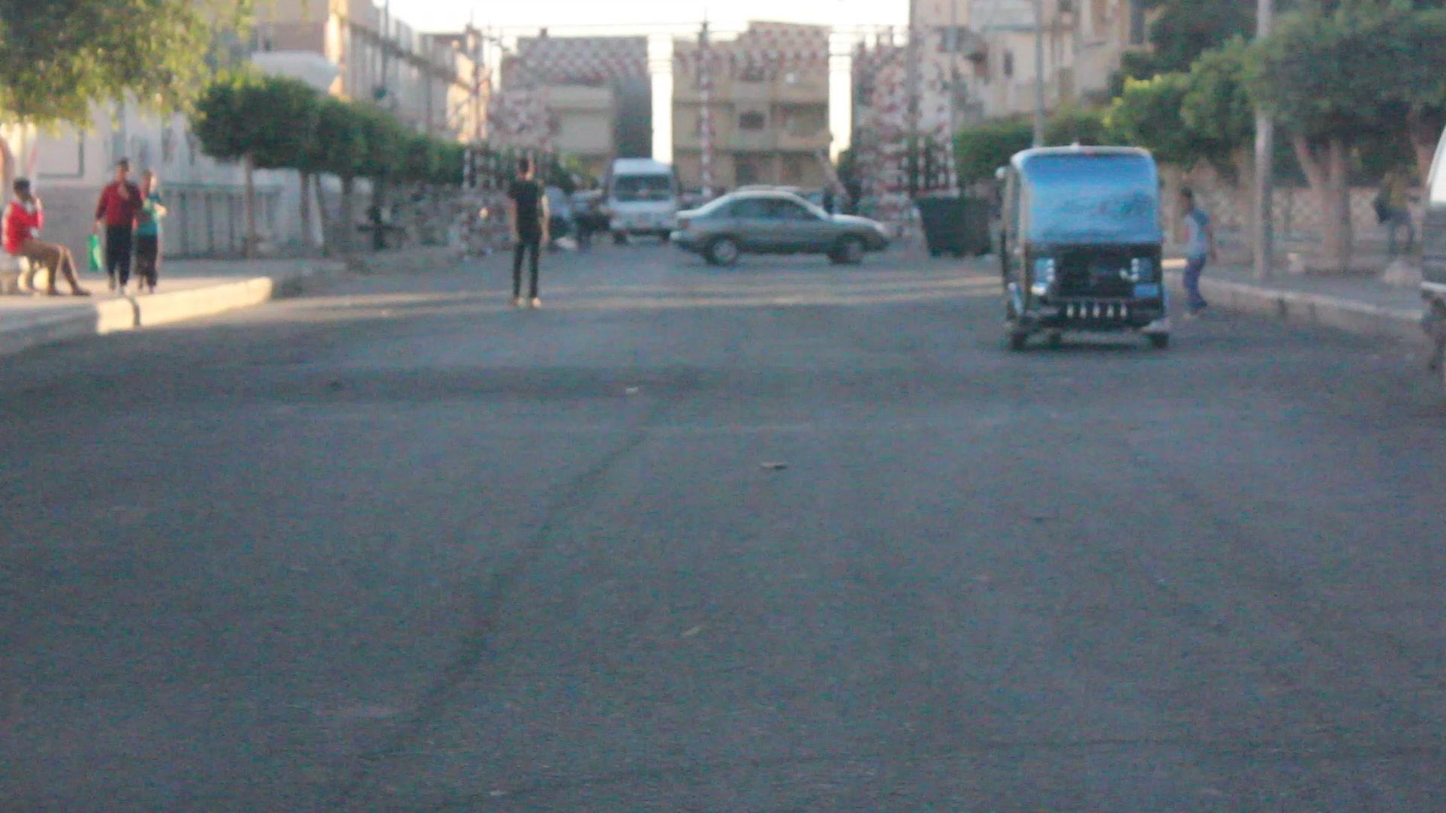Bump: (36, 339, 1446, 435)
